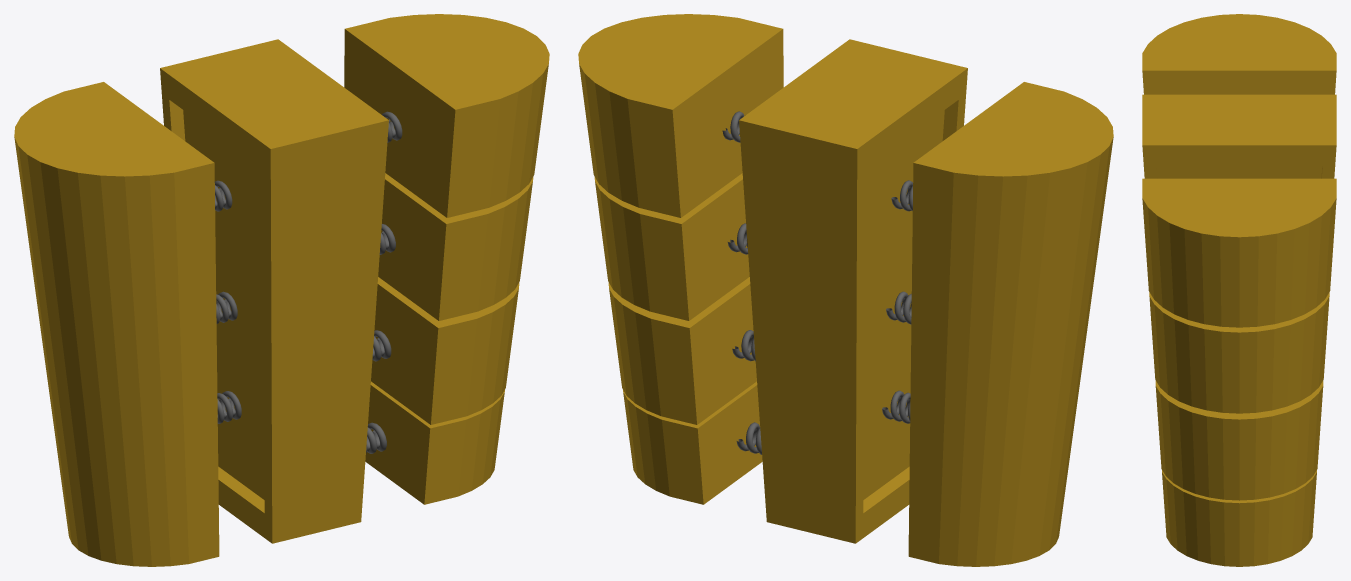
File: VIS_HandInterface.dae
The picture shows the model from 3 angles, left to right: view 1: azimuth 30°, elevation 25°; view 2: azimuth 150°, elevation 25°; view 3: azimuth 270°, elevation 25°; orthographic projection. The views are drawn at different scales.
Parts seen in each view (by area): view 1: VIS_HandInterface; view 2: VIS_HandInterface; view 3: VIS_HandInterface.
Boxes of the visible parts, box(x1,y1,x2,y2) form: VIS_HandInterface: box(14, 14, 549, 566); VIS_HandInterface: box(578, 14, 1113, 566); VIS_HandInterface: box(1142, 14, 1336, 566).
Size of the model in its own units: 0.0779 by 0.0293 by 0.0597.
